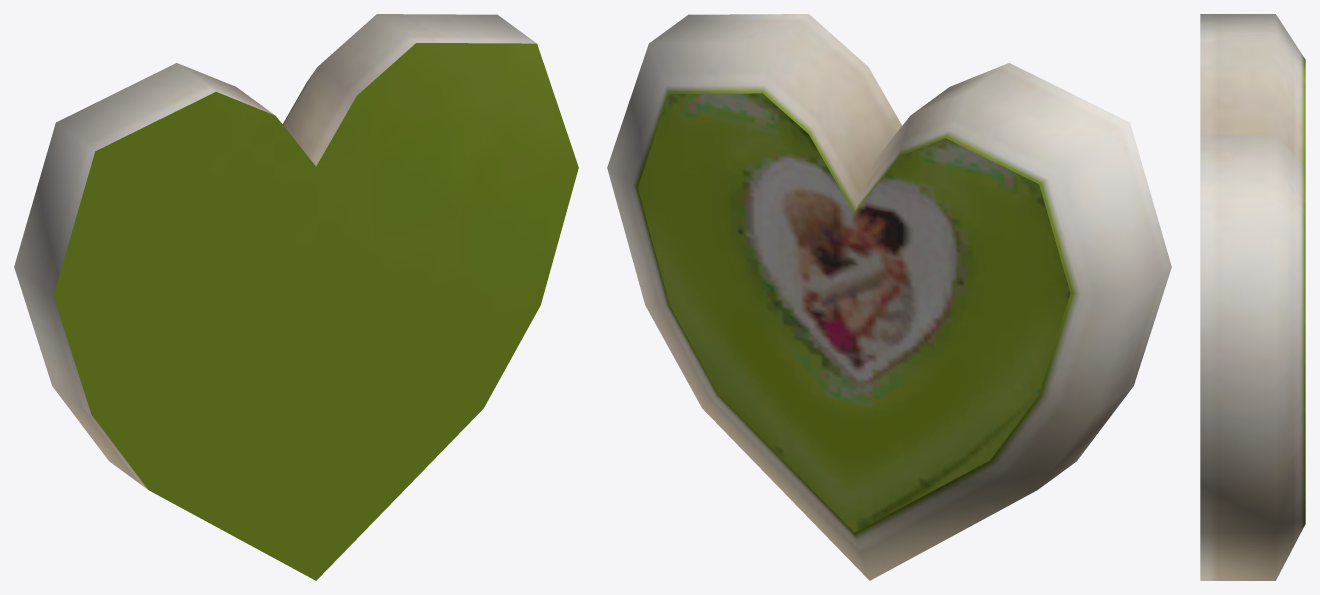
Rendered from furni_0200134_02.FBX.
The picture shows the model from 3 angles, left to right: view 1: azimuth 30°, elevation 25°; view 2: azimuth 150°, elevation 25°; view 3: azimuth 270°, elevation 25°; orthographic projection. The views are drawn at different scales.
Parts seen in each view (by area): view 1: furni_0200134_01; view 2: furni_0200134_01; view 3: furni_0200134_01.
Boxes of the visible parts, x1,y1,x2,y2 form: furni_0200134_01: [14, 14, 578, 580]; furni_0200134_01: [607, 14, 1171, 580]; furni_0200134_01: [1200, 14, 1305, 580].
Bounding box in the file's own units: 53.73 × 50.2 × 9.74.
1 material, 1 textured.
